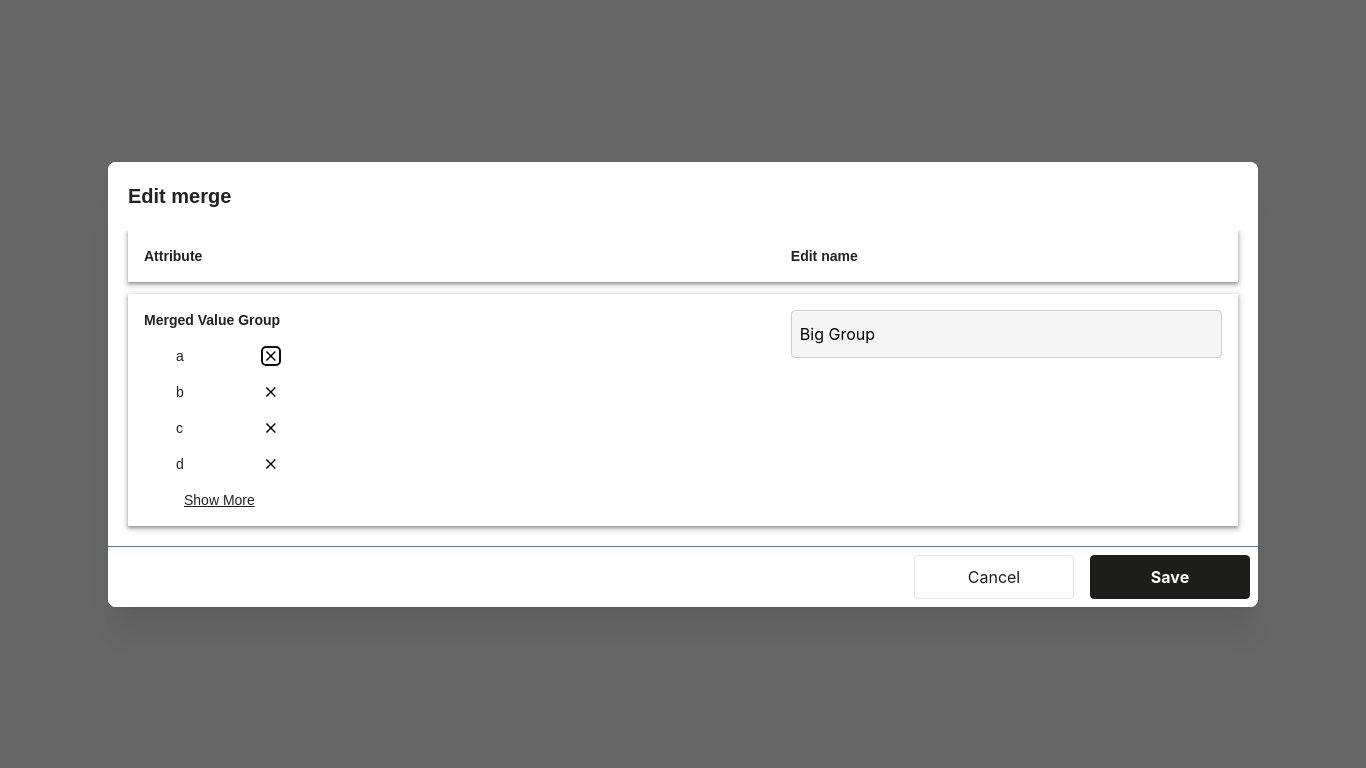
it: GlobalFacetAttributesEditModal › shows Show More / Show Fewer when merged values exceed maxVisible and toggles
The image size is (1366, 768).
Click the button "Show More".
click(232, 500)  # box [184,490,280,510]
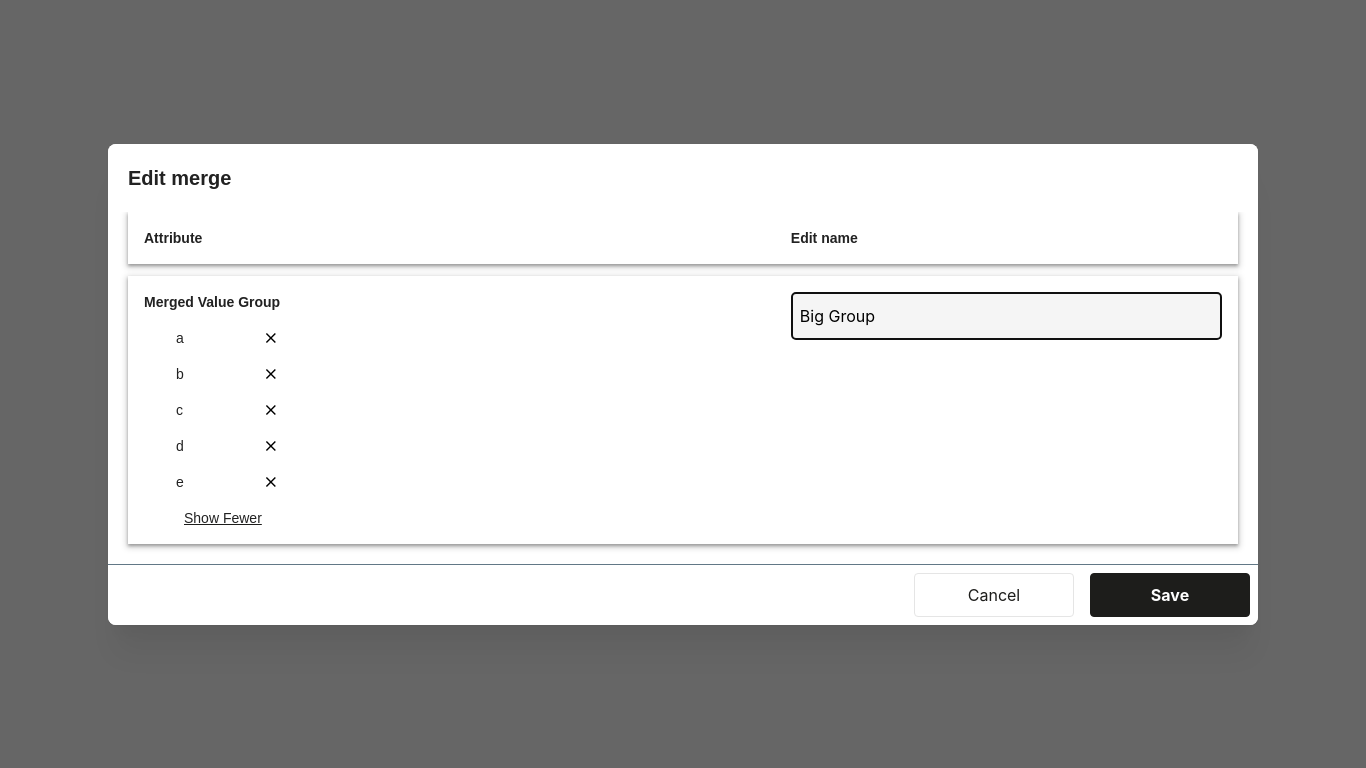
Now the button "Show Fewer" is shown
Click the button "Show Fewer".
click(232, 518)  # box [184,508,280,528]
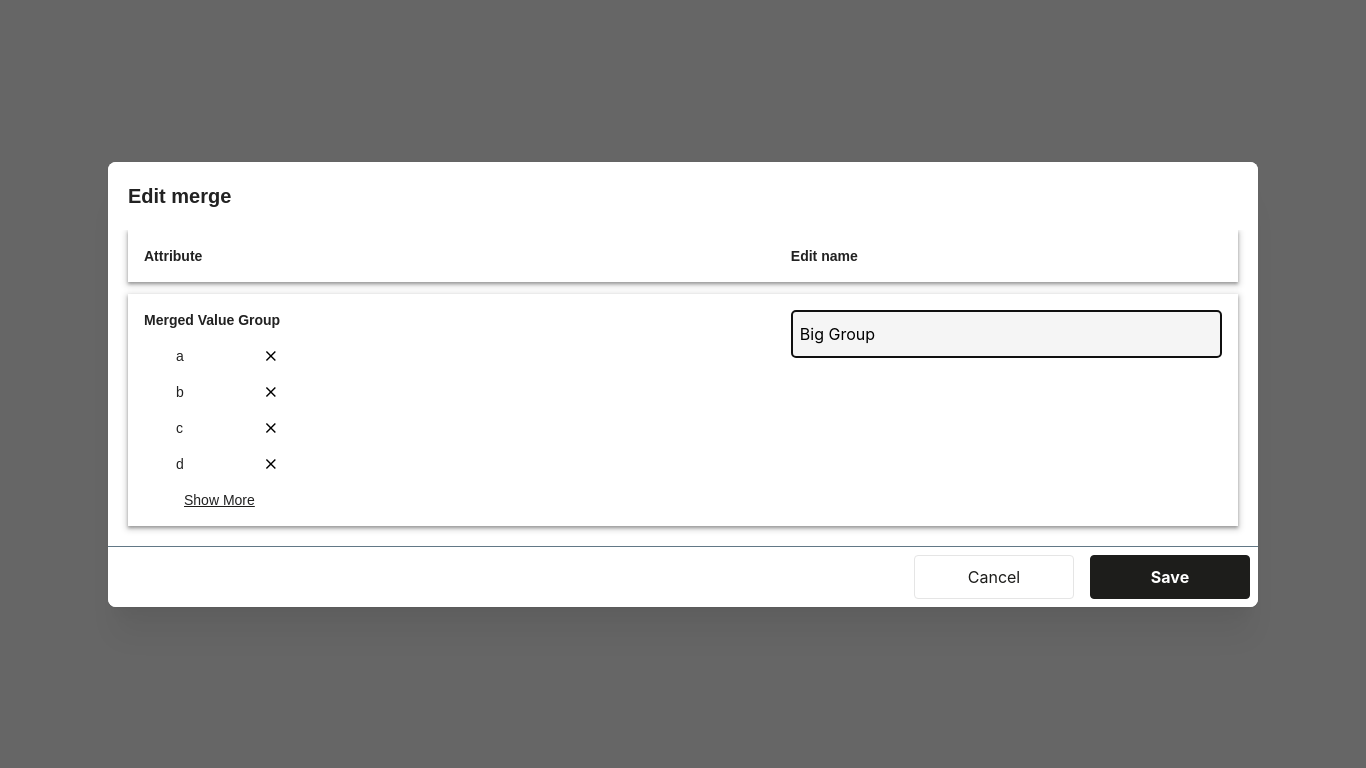
Now the button "Show More" is shown, box [184,490,280,510]
